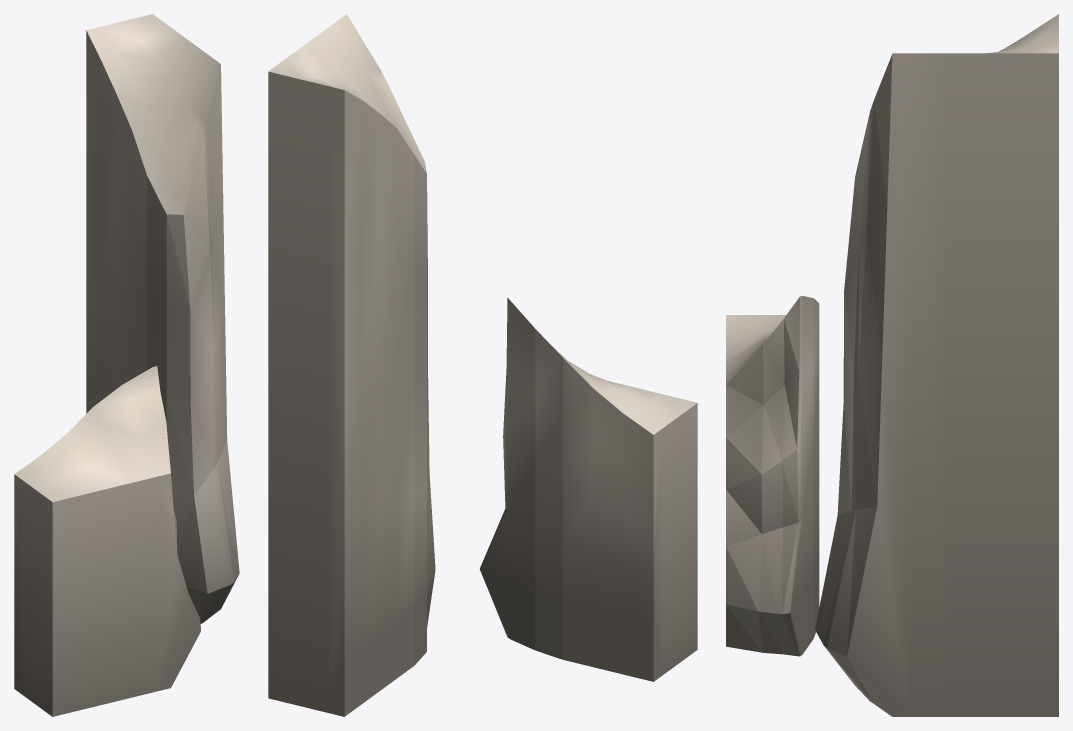
File: SM_VKI_Rock_Cave_COFO_WallN.fbx
The picture shows the model from 3 angles, left to right: view 1: azimuth 30°, elevation 25°; view 2: azimuth 150°, elevation 25°; view 3: azimuth 270°, elevation 25°; orthographic projection. The views are drawn at different scales.
Parts seen in each view (by area): view 1: SM_VKI_Rock_Cave_COFO_WallN.001; view 2: SM_VKI_Rock_Cave_COFO_WallN.001; view 3: SM_VKI_Rock_Cave_COFO_WallN.001.
Part boxes in pixels (x1,y1,x2,y2): SM_VKI_Rock_Cave_COFO_WallN.001: [14, 14, 239, 716]; SM_VKI_Rock_Cave_COFO_WallN.001: [268, 14, 697, 716]; SM_VKI_Rock_Cave_COFO_WallN.001: [726, 14, 1058, 716].
Bounding box in the file's own units: 1.5 × 3.3 × 1.5.
